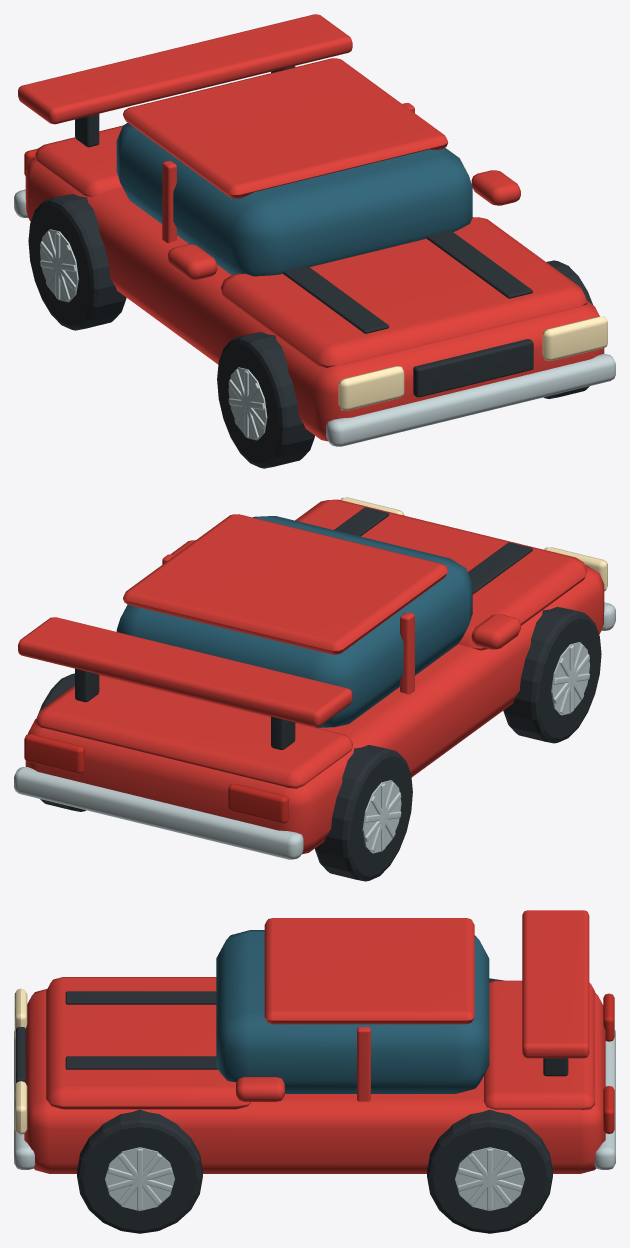
Rendered from comet-sport.glb.
3 renders of one model, top to bottom at view 1: azimuth 30°, elevation 25°; view 2: azimuth 150°, elevation 25°; view 3: azimuth 270°, elevation 25°, orthographic. The views are drawn at different scales.
Visible parts, largest first — view 1: comet-sport paint, Midnight blue glass, TireMeshRL, TireMeshFL, Rubber, Satin alloy, Ivory headlights, TireMeshFR; view 2: comet-sport paint, Midnight blue glass, TireMeshRL, TireMeshFL, Satin alloy, Rubber, Red tail lamps, Ivory headlights, TireMeshRR; view 3: comet-sport paint, Midnight blue glass, TireMeshFR, TireMeshRR, Rubber, Satin alloy, Ivory headlights, Red tail lamps.
Part boxes in pixels (box(x1,y1,x2,y2)): comet-sport paint: box(18, 14, 604, 441); Midnight blue glass: box(116, 123, 472, 276); TireMeshRL: box(28, 194, 126, 330); TireMeshFL: box(217, 332, 314, 468); Rubber: box(75, 66, 533, 397); Satin alloy: box(14, 189, 615, 446); Ivory headlights: box(338, 316, 607, 410); TireMeshFR: box(543, 260, 592, 398); comet-sport paint: box(18, 499, 604, 854); Midnight blue glass: box(116, 516, 472, 727); TireMeshRL: box(315, 745, 412, 881); TireMeshFL: box(503, 607, 601, 743); Satin alloy: box(14, 602, 615, 859); Rubber: box(75, 507, 532, 749); Red tail lamps: box(24, 734, 288, 823); Ivory headlights: box(340, 497, 607, 591); TireMeshRR: box(38, 673, 85, 811); comet-sport paint: box(24, 910, 605, 1173); Midnight blue glass: box(216, 930, 489, 1093); TireMeshFR: box(77, 1109, 202, 1233); TireMeshRR: box(427, 1109, 552, 1233); Rubber: box(16, 991, 568, 1083); Satin alloy: box(14, 1029, 615, 1169); Ivory headlights: box(14, 988, 27, 1134); Red tail lamps: box(603, 993, 614, 1133).
Size of the model in its own units: 2.55 by 1.56 by 4.3.
